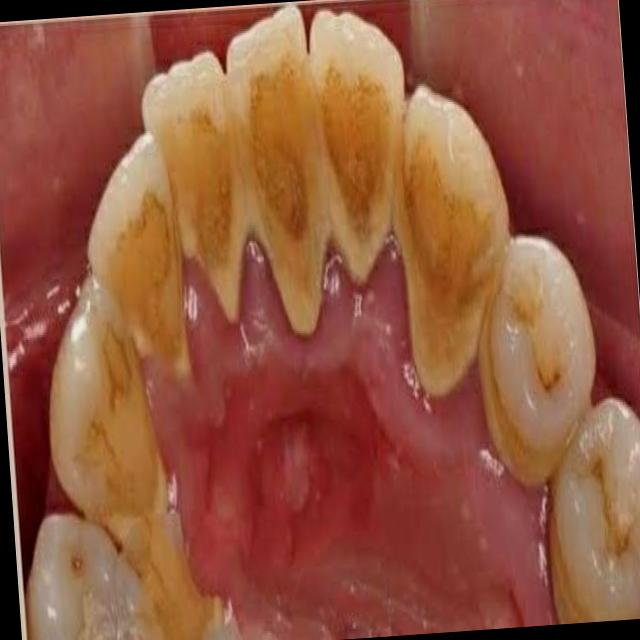calculus: (399, 178, 506, 396), (87, 378, 175, 630), (243, 100, 332, 338), (324, 78, 402, 286)
